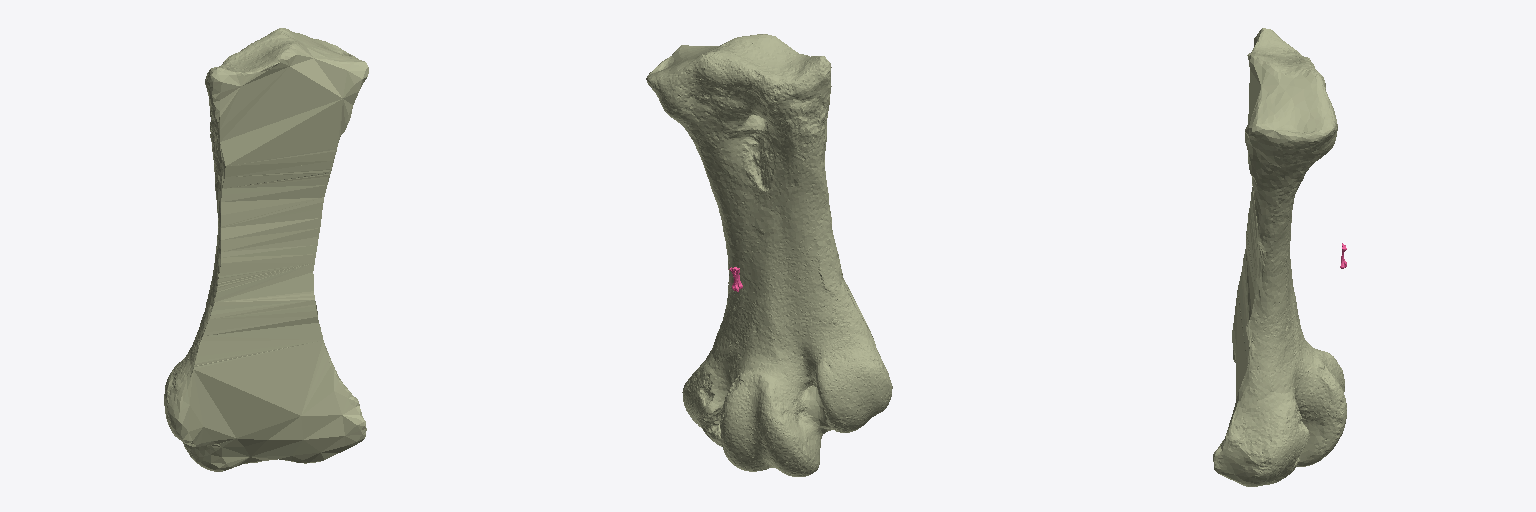
Rendered from tinker.obj.
3 views of the same model, side by side, from view 1: azimuth 30°, elevation 25°; view 2: azimuth 150°, elevation 25°; view 3: azimuth 270°, elevation 25° (orthographic).
Visible parts, largest first — view 1: obj_0; view 2: obj_0; view 3: obj_0.
Part boxes in pixels (bbox=[...]): obj_0: bbox=[164, 28, 368, 471]; obj_0: bbox=[646, 34, 892, 476]; obj_0: bbox=[1213, 28, 1346, 486].
Size of the model in its own units: 944 by 1800 by 526.